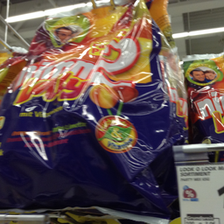candy: (15, 7, 173, 162)
